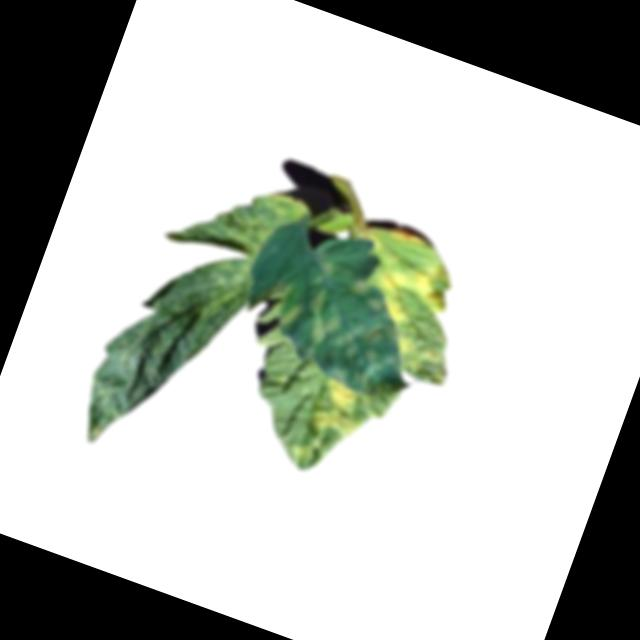Leaf_Mold: (280, 262, 436, 406), (361, 242, 461, 341), (295, 377, 371, 467), (384, 223, 431, 256)
